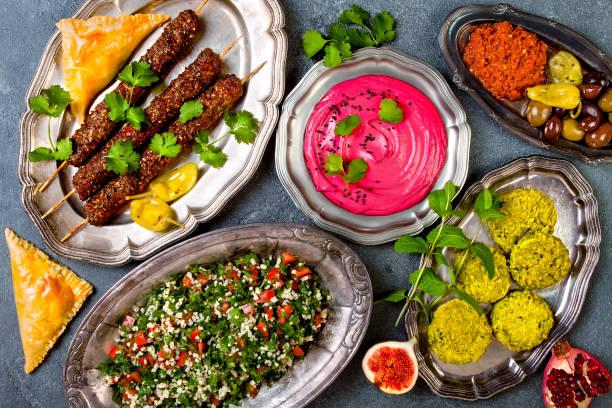Braised Crucian Carp: (18, 0, 286, 265), (62, 221, 363, 404), (397, 154, 612, 406), (270, 47, 474, 240), (438, 1, 612, 162)
